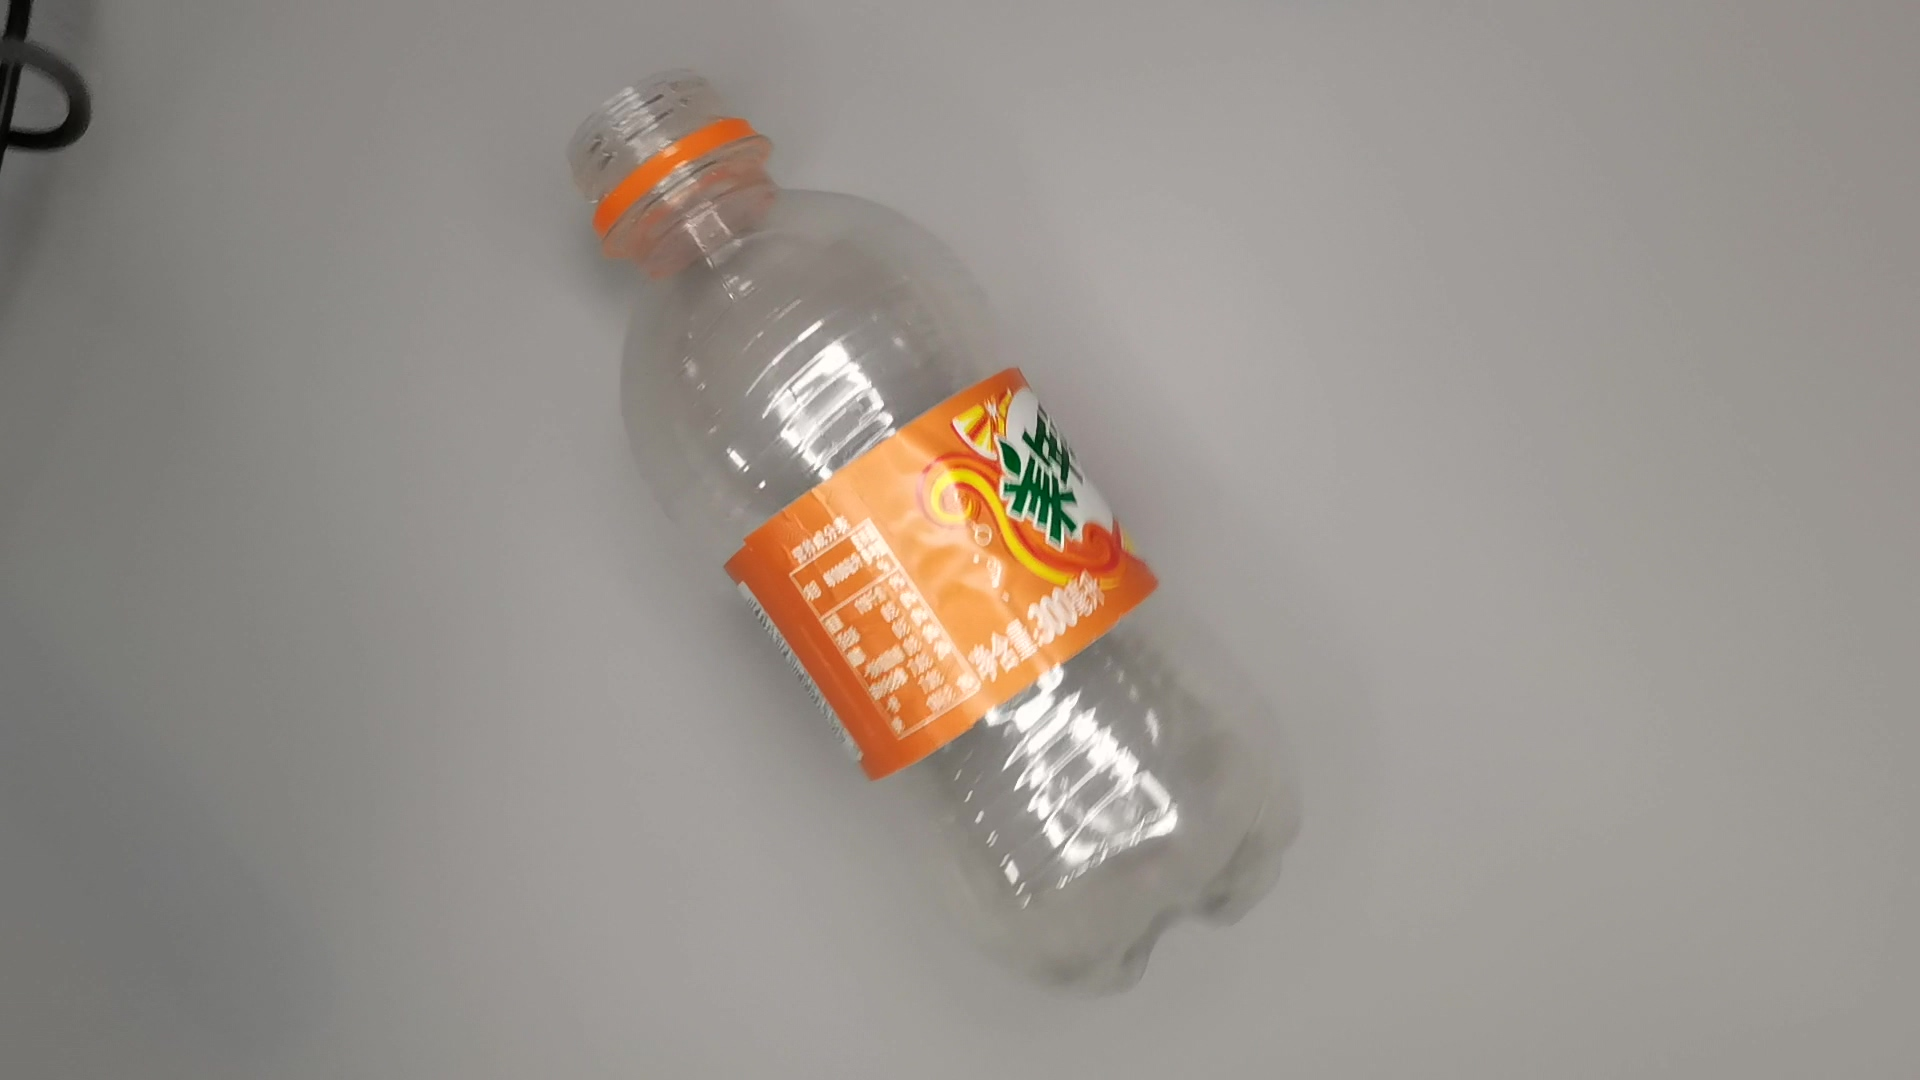bottle: (567, 54, 1321, 1004)
